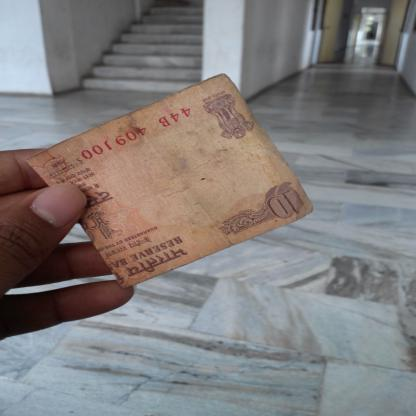Old10Front: (24, 73, 315, 290)
